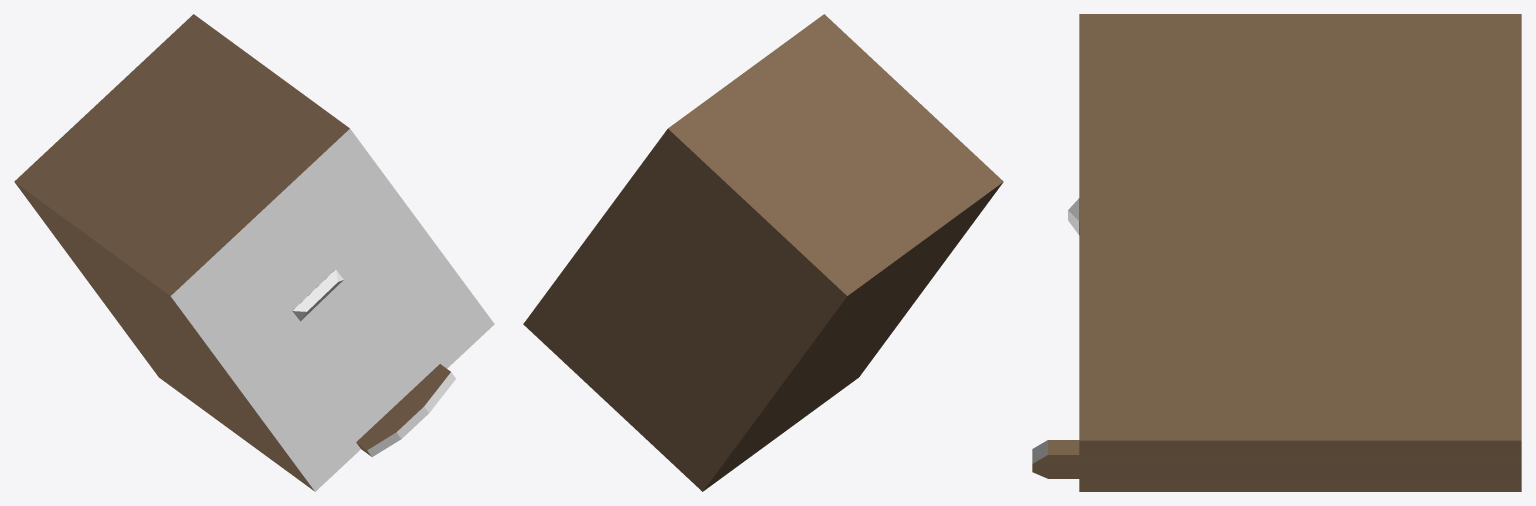
3 views of the same model, side by side, from view 1: azimuth 30°, elevation 25°; view 2: azimuth 150°, elevation 25°; view 3: azimuth 270°, elevation 25° (orthographic). The views are drawn at different scales.
Parts seen in each view (by area): view 1: City_1884410; view 2: City_1884410; view 3: City_1884410.
Boxes of the visible parts, x1,y1,x2,y2 form: City_1884410: (14, 14, 494, 491); City_1884410: (523, 14, 1003, 491); City_1884410: (1032, 14, 1521, 491).
Size of the model in its own units: 1657 by 1733 by 1532.
